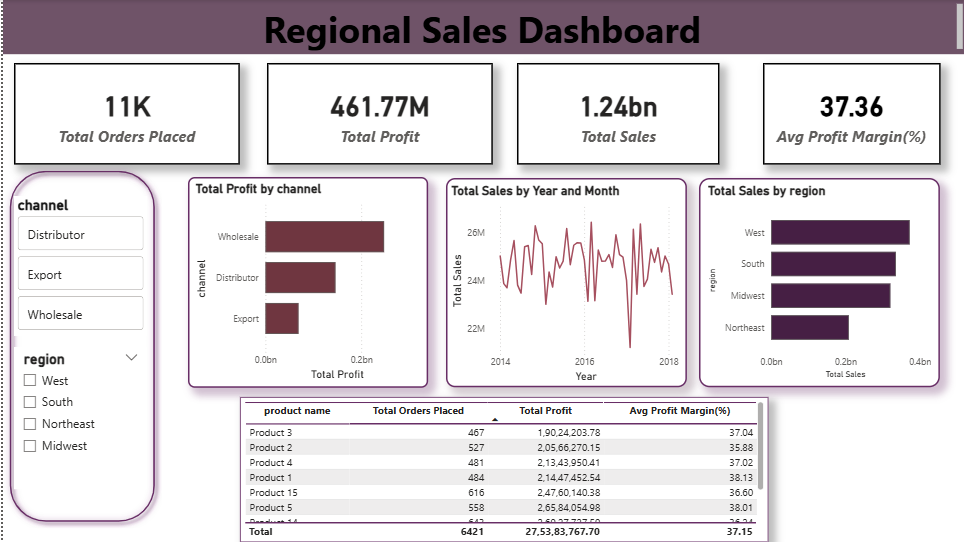

What the dashboard file says about the page in this screenshot:
{"tool":"powerbi","page":{"name":"Page 1","canvas":[1280,720],"ordinal":0},"visuals":[{"type":"card","fields":{"Values":["final_regional_sales_analysis.Total Orders"]},"box":[14.6,83.4,300,134.6],"z":0},{"type":"card","fields":{"Values":["final_regional_sales_analysis.Total Profit"]},"box":[351.2,83.4,300,134.6],"z":1000},{"type":"card","fields":{"Values":["final_regional_sales_analysis.Total Sales"]},"box":[683.4,83.4,269.3,134.6],"z":2000},{"type":"card","fields":{"Values":["final_regional_sales_analysis.Avg Profit Margin"]},"box":[992.2,83.4,235.6,134.6],"z":3000},{"type":"shape","box":[0,0,1280.5,13.2],"z":4000},{"type":"textbox","box":[0,0,1280.5,71.7],"z":5000},{"type":"lineChart","fields":{"Y":["final_regional_sales_analysis.Total Sales"],"Category":["final_regional_sales_analysis.orderdate.Variation.Date Hierarchy.Year","final_regional_sales_analysis.orderdate.Variation.Date Hierarchy.Month"]},"box":[588.3,237.1,320.5,278],"z":6000},{"type":"barChart","fields":{"Category":["final_regional_sales_analysis.region"],"Y":["final_regional_sales_analysis.Total Sales"]},"box":[924.9,237.1,320.5,278],"z":7000},{"type":"barChart","fields":{"Category":["final_regional_sales_analysis.channel"],"Y":["final_regional_sales_analysis.Total Profit"]},"box":[245.9,235.6,319,279.5],"z":8000},{"type":"shape","box":[0,218,210.7,484.4],"z":9000},{"type":"slicer","fields":{"Values":["final_regional_sales_analysis.region"]},"box":[14.6,461,177.1,188.8],"z":11000},{"type":"advancedSlicerVisual","fields":{"Values":["final_regional_sales_analysis.channel"]},"box":[14.6,260.5,177.1,185.9],"z":11001},{"type":"tableEx","fields":{"Values":["final_regional_sales_analysis.product name","final_regional_sales_analysis.Total Orders","final_regional_sales_analysis.Total Profit","final_regional_sales_analysis.Avg Profit Margin"]},"box":[314.6,526.8,702.4,193.2],"z":11002}]}

Visuals, with their boxes in screenshot pixels (x1, y1, x2, y2), scaled from the page's 1280x720 canvas onto the 964x542 screenshot:
card - final_regional_sales_analysis.Total Orders: 11 63 237 164
card - final_regional_sales_analysis.Total Profit: 264 63 490 164
card - final_regional_sales_analysis.Total Sales: 515 63 718 164
card - final_regional_sales_analysis.Avg Profit Margin: 747 63 925 164
shape: 0 0 963 10
textbox: 0 0 963 54
lineChart - final_regional_sales_analysis.Total Sales x final_regional_sales_analysis.orderdate.Variation.Date Hierarchy.Year: 443 178 684 388
barChart - final_regional_sales_analysis.region x final_regional_sales_analysis.Total Sales: 697 178 938 388
barChart - final_regional_sales_analysis.channel x final_regional_sales_analysis.Total Profit: 185 177 425 388
shape: 0 164 159 529
slicer - final_regional_sales_analysis.region: 11 347 144 489
advancedSlicerVisual - final_regional_sales_analysis.channel: 11 196 144 336
tableEx - final_regional_sales_analysis.product name x final_regional_sales_analysis.Total Orders: 237 397 766 541
